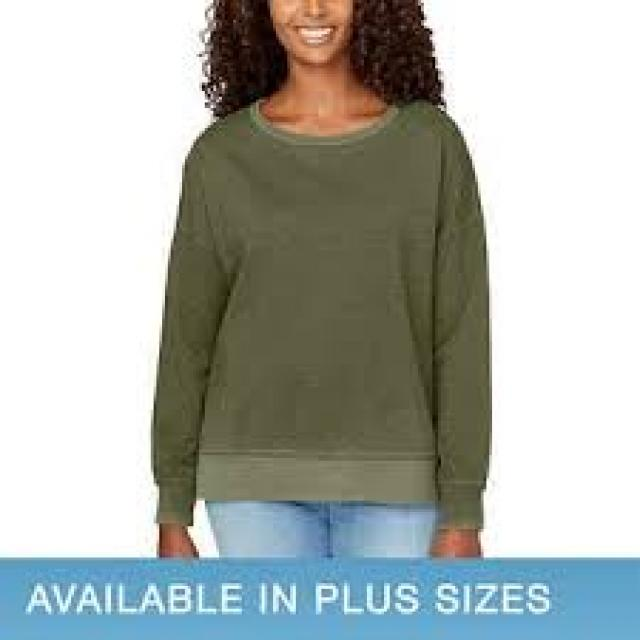plain: (147, 102, 492, 532)
